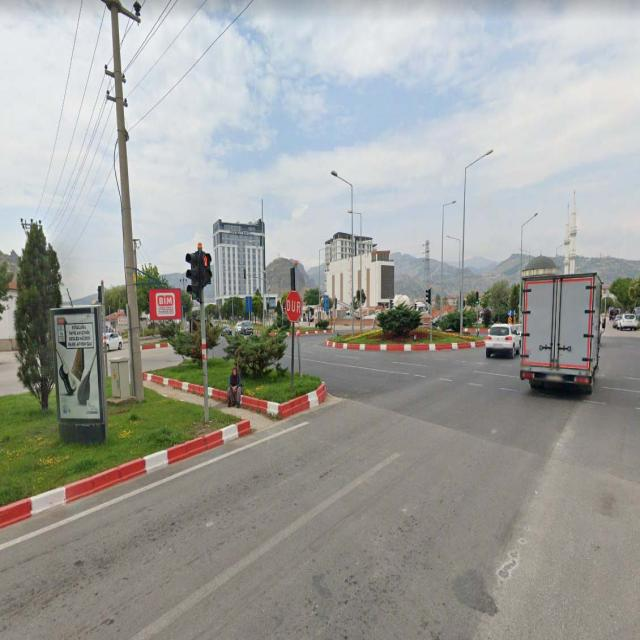dur: (286, 292, 304, 321)
